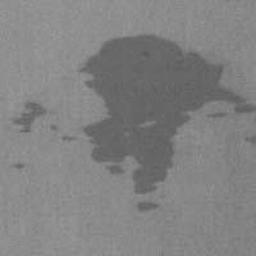Oil spot: (77, 33, 256, 196), (12, 100, 47, 134), (136, 201, 161, 212), (244, 134, 256, 147), (60, 134, 78, 142), (13, 161, 26, 172), (50, 124, 59, 132)
